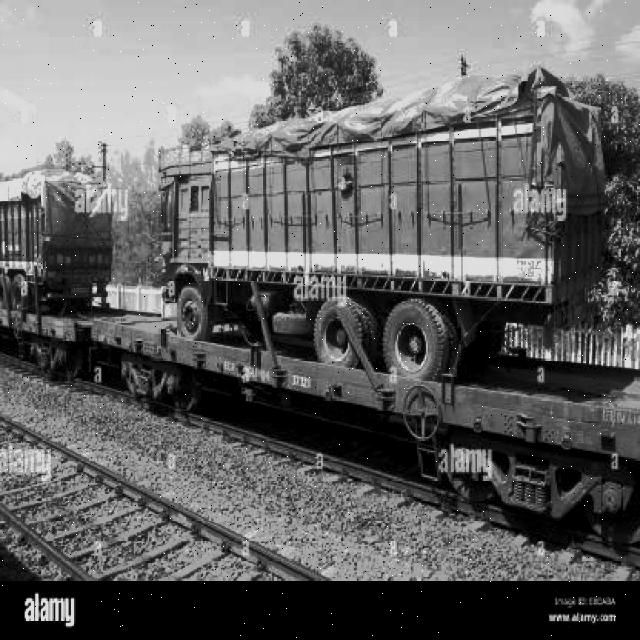HCV: (149, 143, 592, 373)
